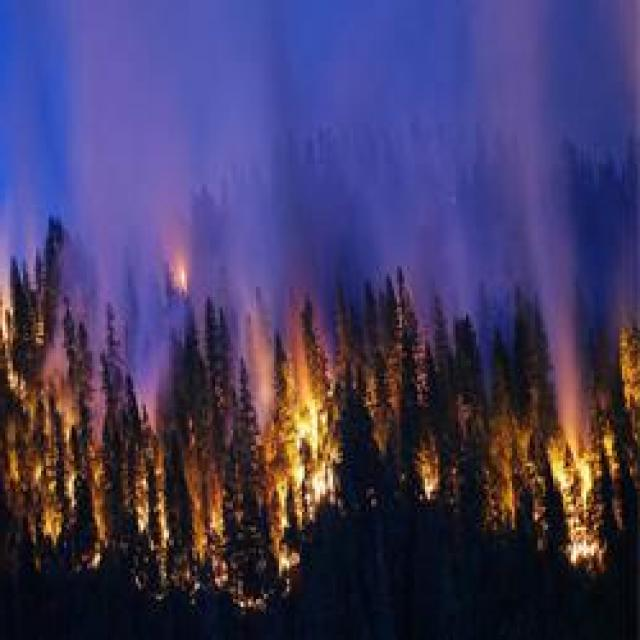fire: (280, 382, 333, 506), (552, 446, 595, 518)
smoke: (62, 4, 192, 236), (459, 11, 557, 131), (545, 247, 591, 447)
